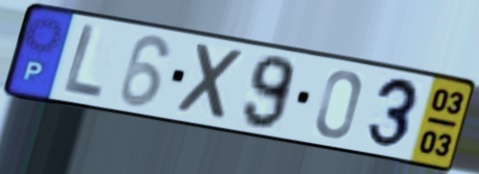0: (312, 68, 364, 140)
3: (364, 74, 424, 152)
6: (116, 33, 177, 110)
9: (237, 52, 298, 132)
L: (60, 21, 107, 103)
X: (174, 40, 250, 125)
